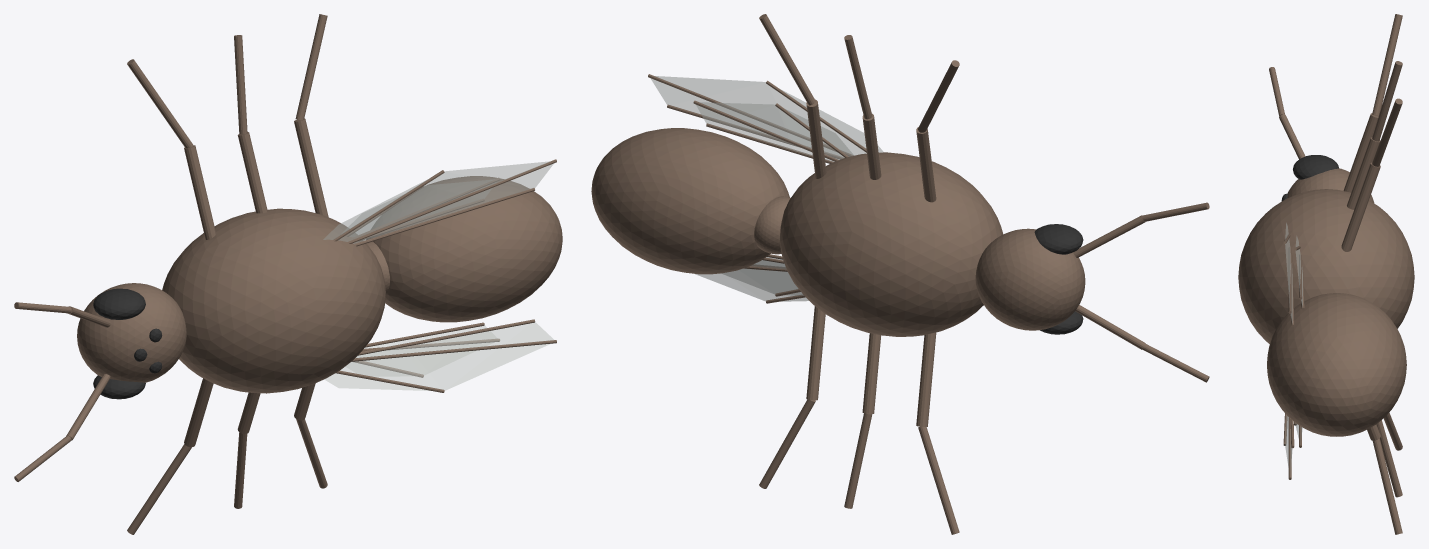
Rendered from macho-hormiga-v2.glb.
3 renders of one model, left to right at view 1: azimuth 30°, elevation 25°; view 2: azimuth 150°, elevation 25°; view 3: azimuth 270°, elevation 25°, orthographic. The views are drawn at different scales.
Visible parts, largest first — view 1: thorax, gaster, forewing_-1, head, forewing_1, hindwing_-1, hindwing_1, eye_L, leg2_1a, leg0_1a, leg1_1a, leg2_1b (+11 smaller); view 2: thorax, gaster, head, forewing_1, hindwing_1, forewing_-1, hindwing_-1, petiole, leg0_-1a, eye_L, leg2_-1a, leg0_-1b (+9 smaller); view 3: thorax, gaster, leg2_1a, head, leg0_1b, leg2_-1b, eye_L, leg0_1a, leg1_1a, leg1_1b, leg1_-1b, leg2_1b (+6 smaller).
Boxes of the visible parts, x1,y1,x2,y2 form: thorax: (162, 208, 385, 393); gaster: (366, 176, 562, 322); forewing_-1: (324, 322, 553, 390); head: (77, 283, 186, 382); forewing_1: (323, 161, 553, 243); hindwing_-1: (346, 325, 496, 376); hindwing_1: (343, 180, 496, 236); eye_L: (93, 288, 145, 319); leg2_1a: (294, 118, 328, 217); leg0_1a: (184, 145, 216, 239); leg1_1a: (237, 132, 267, 213); leg2_1b: (295, 14, 327, 120); thorax: (780, 152, 1003, 336); gaster: (591, 128, 789, 274); head: (975, 228, 1085, 330); forewing_1: (650, 76, 883, 157); hindwing_1: (696, 102, 853, 161); forewing_-1: (694, 257, 808, 301); hindwing_-1: (721, 260, 803, 295); petiole: (754, 196, 790, 254); leg0_-1a: (916, 332, 936, 426); eye_L: (1034, 224, 1083, 254); leg2_-1a: (806, 306, 825, 400); leg0_-1b: (918, 426, 959, 534); thorax: (1238, 189, 1414, 344); gaster: (1267, 293, 1406, 436); leg2_1a: (1341, 162, 1380, 251); head: (1287, 168, 1374, 202); leg0_1b: (1372, 14, 1402, 116); leg2_-1b: (1372, 438, 1402, 534); eye_L: (1293, 155, 1338, 179); leg0_1a: (1343, 113, 1378, 192); leg1_1a: (1347, 137, 1380, 209); leg1_1b: (1372, 61, 1402, 141); leg1_-1b: (1376, 420, 1402, 497); leg2_1b: (1372, 98, 1402, 166).
Bounding box in the file's own units: 0.28 × 0.2207 × 0.0809.
